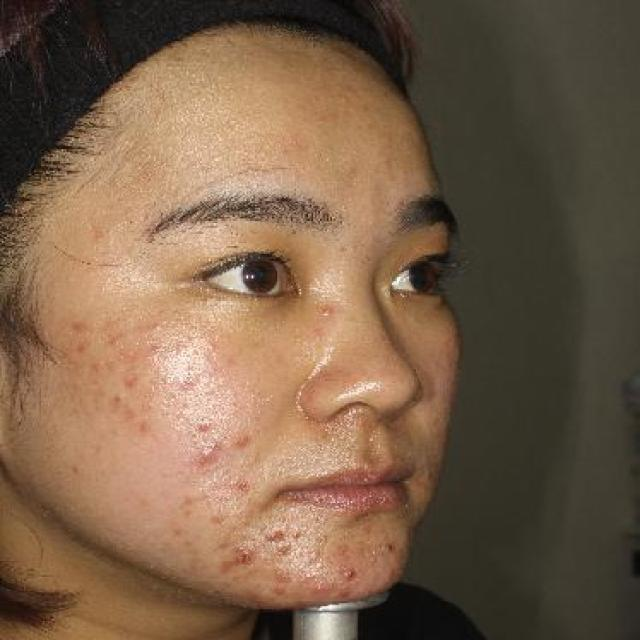dark spot: (220, 545, 264, 572), (65, 317, 96, 340)
papules: (192, 438, 224, 472)
pustules: (337, 562, 366, 582), (316, 300, 341, 320)
